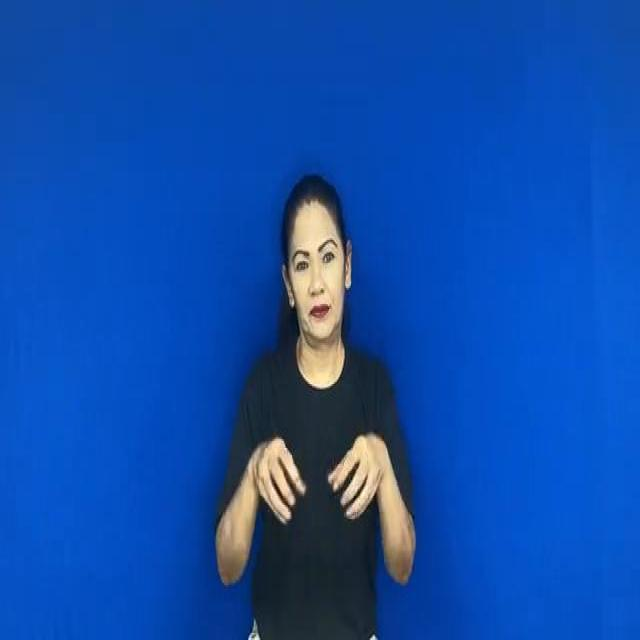egg: (234, 395, 390, 537)
